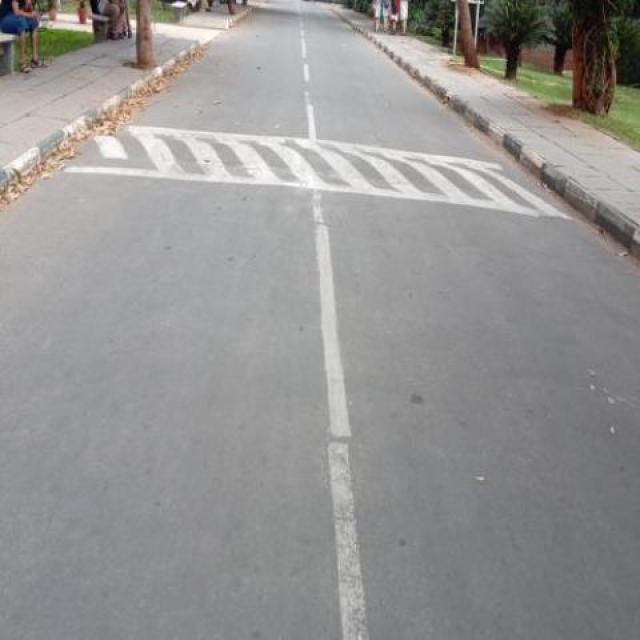Speed Bump: (105, 124, 523, 216)
